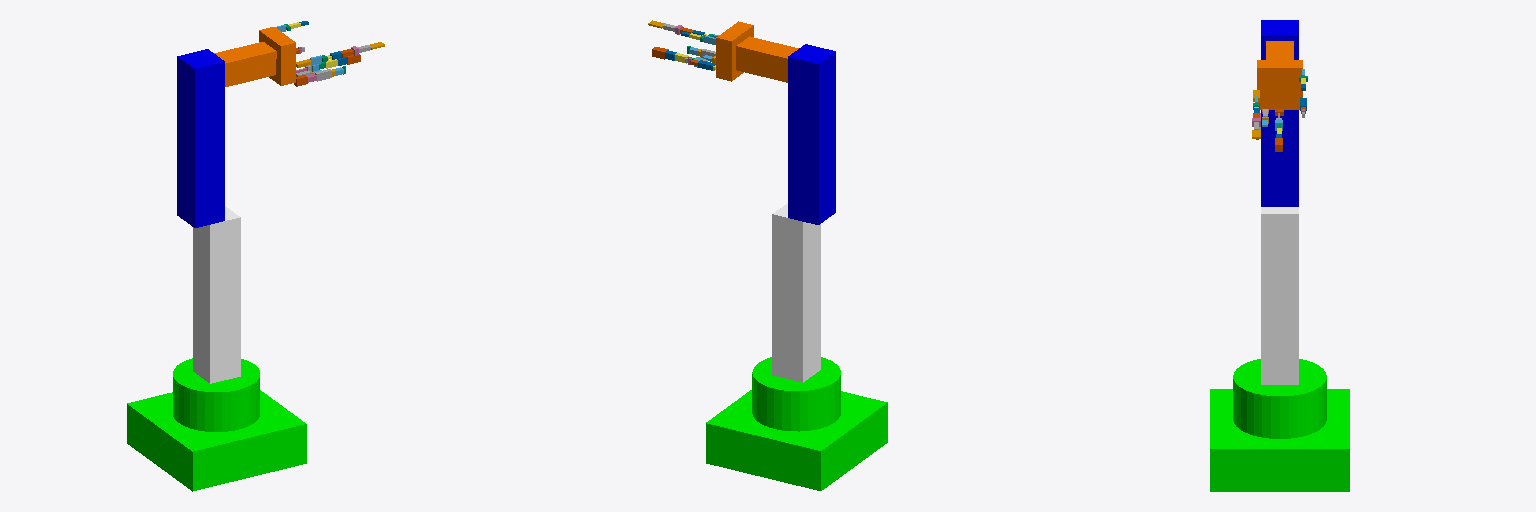
--- Render facts (derived) ---
Views: 3 orthographic renders of the robot side by side, from view 1: azimuth 30°, elevation 25°; view 2: azimuth 150°, elevation 25°; view 3: azimuth 270°, elevation 25°.
Robot: robot — 42 links, 41 joints (38 revolute, 1 continuous, 2 fixed); root link base_link; default pose: all joints at 0.
Links seen in each view (by area): view 1: base_link, arm_link, support_link, wrist_link, palm_link; view 2: base_link, arm_link, support_link, wrist_link, palm_link; view 3: base_link, support_link, arm_link, palm_link, wrist_link.
Boxes of the visible links, <box> form: base_link: <box>127,358,306,491</box>; arm_link: <box>177,49,224,227</box>; support_link: <box>193,206,240,383</box>; wrist_link: <box>214,42,276,86</box>; palm_link: <box>259,27,295,85</box>; base_link: <box>706,357,887,490</box>; arm_link: <box>788,44,835,224</box>; support_link: <box>772,203,820,382</box>; wrist_link: <box>736,36,798,82</box>; palm_link: <box>716,21,753,81</box>; base_link: <box>1210,359,1349,491</box>; support_link: <box>1261,207,1298,384</box>; arm_link: <box>1261,20,1298,206</box>; palm_link: <box>1257,60,1302,109</box>; wrist_link: <box>1266,41,1293,59</box>.
Size in the robot's own frame: 1.4 by 0.75 by 2.52 metres.
Geometry: primitives only (box / cylinder / sphere), no mesh files.

URDF robot description (robot):
<?xml version='1.0' encoding='utf-8'?>
<robot name="robot">
  <link name="base_link">
    <visual>
      <origin xyz="0 0 0.125" rpy="0 0 0" />
      <geometry>
        <box size="0.75 0.75 0.25" />
      </geometry>
      <material name="green" />
    </visual>
    <visual>
      <origin xyz="0 0 0.375" rpy="0 0 0" />
      <geometry>
        <cylinder length="0.25" radius="0.25" />
      </geometry>
      <material name="green">
        <color rgba="0 1 0 1" />
      </material>
    </visual>
    <collision>
      <geometry>
        <box size="0.75 0.75 0.5" />
      </geometry>
    </collision>
    <inertial>
      <mass value="0.5" />
      <inertia ixx="0.034" ixy="0.0" ixz="0.0" iyy="0.034" iyz="0.0" izz="0.034" />
    </inertial>
  </link>
  <link name="support_link">
    <visual>
      <origin xyz="0 0 0.5" rpy="0 0 0" />
      <geometry>
        <box size="0.2 0.2 1" />
      </geometry>
      <material name="white">
        <color rgba="1 1 1 1" />
      </material>
    </visual>
    <collision>
      <geometry>
        <box size="0.2 0.2 1" />
      </geometry>
    </collision>
    <inertial>
      <mass value="0.1" />
      <inertia ixx="0.01" ixy="0.0" ixz="0.0" iyy="0.01" iyz="0.0" izz="0.01" />
    </inertial>
  </link>
  <joint name="support_joint" type="continuous">
    <origin xyz="0 0 0.5" rpy="0 0 0" />
    <parent link="base_link" />
    <child link="support_link" />
    <axis xyz="0 0 1" />
  </joint>
  <link name="arm_link">
    <visual>
      <origin xyz="0 0 0.5" rpy="0 0 0" />
      <geometry>
        <box size="0.2 0.2 1" />
      </geometry>
      <material name="blue">
        <color rgba="0 0 1 1" />
      </material>
    </visual>
    <collision>
      <geometry>
        <box size="0.2 0.2 1" />
      </geometry>
    </collision>
    <inertial>
      <mass value="0.1" />
      <inertia ixx="0.01" ixy="0.0" ixz="0.0" iyy="0.01" iyz="0.0" izz="0.01" />
    </inertial>
  </link>
  <joint name="arm_joint" type="revolute">
    <origin xyz="-0.1 0 1" rpy="0 0 0" />
    <parent link="support_link" />
    <child link="arm_link" />
    <axis xyz="0 1 0" />
    <limit lower="-3.14" upper="3.14" effort="1.0" velocity="1.0" />
  </joint>
  <link name="wrist_link">
    <visual>
      <origin xyz="0 0 0.25" rpy="0 0 0" />
      <geometry>
        <box size="0.15 0.15 0.5" />
      </geometry>
      <material name="orange">
        <color rgba="1 0.5 0 1" />
      </material>
    </visual>
    <collision>
      <geometry>
        <box size="0.15 0.15 0.5" />
      </geometry>
    </collision>
    <inertial>
      <mass value="0.1" />
      <inertia ixx="0.01" ixy="0.0" ixz="0.0" iyy="0.01" iyz="0.0" izz="0.01" />
    </inertial>
  </link>
  <joint name="wrist_joint" type="fixed">
    <origin xyz="0 0 0.9" rpy="0 1.571 0" />
    <parent link="arm_link" />
    <child link="wrist_link" />
  </joint>
  <link name="palm_link">
    <visual>
      <origin xyz="0 0 0.05" rpy="0 0 0" />
      <geometry>
        <box size="0.25 0.25 0.1" />
      </geometry>
      <material name="orange" />
    </visual>
    <collision>
      <geometry>
        <box size="0.25 0.25 0.1" />
      </geometry>
    </collision>
    <inertial>
      <mass value="0.1" />
      <inertia ixx="0.01" ixy="0.0" ixz="0.0" iyy="0.01" iyz="0.0" izz="0.01" />
    </inertial>
  </link>
  <joint name="palm_joint" type="fixed">
    <origin xyz="0 0 0.45" rpy="0 0 0" />
    <parent link="wrist_link" />
    <child link="palm_link" />
  </joint>
  <link name="finger_link_0_0">
    <visual>
      <origin xyz="0 0 0.035" rpy="0 0 0" />
      <geometry>
        <box size="0.048 0.029 0.07" />
      </geometry>
    </visual>
    <collision>
      <geometry>
        <box size="0.048 0.029 0.07" />
      </geometry>
    </collision>
    <inertial>
      <mass value="0.029" />
      <inertia ixx="0.0" iyy="0.0" izz="0.0" ixy="0" ixz="0" iyz="0" />
    </inertial>
  </link>
  <joint name="finger_joint_palm_link_to_finger_link_0_0" type="revolute">
    <origin xyz="0.125 -0.119 0.1" rpy="0 0 0" />
    <parent link="palm_link" />
    <child link="finger_link_0_0" />
    <axis xyz="0.0 1.0 0.0" />
    <limit lower="-3.142" upper="3.142" effort="10" velocity="10" />
  </joint>
  <link name="finger_link_0_1">
    <visual>
      <origin xyz="0 0 0.0315" rpy="0 0 0" />
      <geometry>
        <box size="0.03 0.033 0.063" />
      </geometry>
    </visual>
    <collision>
      <geometry>
        <box size="0.03 0.033 0.063" />
      </geometry>
    </collision>
    <inertial>
      <mass value="0.019" />
      <inertia ixx="0.0" iyy="0.0" izz="0.0" ixy="0" ixz="0" iyz="0" />
    </inertial>
  </link>
  <joint name="finger_joint_finger_link_0_0_to_finger_link_0_1" type="revolute">
    <origin xyz="0.0 0.0 0.07" rpy="0 0 0" />
    <parent link="finger_link_0_0" />
    <child link="finger_link_0_1" />
    <axis xyz="0.0 1.0 0.0" />
    <limit lower="-3.142" upper="3.142" effort="10" velocity="10" />
  </joint>
  <link name="finger_link_0_2">
    <visual>
      <origin xyz="0 0 0.0495" rpy="0 0 0" />
      <geometry>
        <box size="0.047 0.025 0.099" />
      </geometry>
    </visual>
    <collision>
      <geometry>
        <box size="0.047 0.025 0.099" />
      </geometry>
    </collision>
    <inertial>
      <mass value="0.035" />
      <inertia ixx="0.0" iyy="0.0" izz="0.0" ixy="0" ixz="0" iyz="0" />
    </inertial>
  </link>
  <joint name="finger_joint_finger_link_0_1_to_finger_link_0_2" type="revolute">
    <origin xyz="0.0 0.0 0.063" rpy="0 0 0" />
    <parent link="finger_link_0_1" />
    <child link="finger_link_0_2" />
    <axis xyz="0.0 1.0 0.0" />
    <limit lower="-3.142" upper="3.142" effort="10" velocity="10" />
  </joint>
  <link name="finger_link_0_3">
    <visual>
      <origin xyz="0 0 0.0125" rpy="0 0 0" />
      <geometry>
        <box size="0.03 0.031 0.025" />
      </geometry>
    </visual>
    <collision>
      <geometry>
        <box size="0.03 0.031 0.025" />
      </geometry>
    </collision>
    <inertial>
      <mass value="0.007" />
      <inertia ixx="0.0" iyy="0.0" izz="0.0" ixy="0" ixz="0" iyz="0" />
    </inertial>
  </link>
  <joint name="finger_joint_finger_link_0_2_to_finger_link_0_3" type="revolute">
    <origin xyz="0.0 0.0 0.099" rpy="0 0 0" />
    <parent link="finger_link_0_2" />
    <child link="finger_link_0_3" />
    <axis xyz="0.0 1.0 0.0" />
    <limit lower="-3.142" upper="3.142" effort="10" velocity="10" />
  </joint>
  <link name="finger_link_0_4">
    <visual>
      <origin xyz="0 0 0.026" rpy="0 0 0" />
      <geometry>
        <box size="0.028 0.033 0.052" />
      </geometry>
    </visual>
    <collision>
      <geometry>
        <box size="0.028 0.033 0.052" />
      </geometry>
    </collision>
    <inertial>
      <mass value="0.014" />
      <inertia ixx="0.0" iyy="0.0" izz="0.0" ixy="0" ixz="0" iyz="0" />
    </inertial>
  </link>
  <joint name="finger_joint_finger_link_0_3_to_finger_link_0_4" type="revolute">
    <origin xyz="0.0 0.0 0.025" rpy="0 0 0" />
    <parent link="finger_link_0_3" />
    <child link="finger_link_0_4" />
    <axis xyz="1.0 0.0 0.0" />
    <limit lower="-3.142" upper="3.142" effort="10" velocity="10" />
  </joint>
  <link name="finger_link_0_5">
    <visual>
      <origin xyz="0 0 0.0105" rpy="0 0 0" />
      <geometry>
        <box size="0.045 0.013 0.021" />
      </geometry>
    </visual>
    <collision>
      <geometry>
        <box size="0.045 0.013 0.021" />
      </geometry>
    </collision>
    <inertial>
      <mass value="0.004" />
      <inertia ixx="0.0" iyy="0.0" izz="0.0" ixy="0" ixz="0" iyz="0" />
    </inertial>
  </link>
  <joint name="finger_joint_finger_link_0_4_to_finger_link_0_5" type="revolute">
    <origin xyz="0.0 0.0 0.052" rpy="0 0 0" />
    <parent link="finger_link_0_4" />
    <child link="finger_link_0_5" />
    <axis xyz="1.0 0.0 0.0" />
    <limit lower="-3.142" upper="3.142" effort="10" velocity="10" />
  </joint>
  <link name="finger_link_1_0">
    <visual>
      <origin xyz="0 0 0.0055" rpy="0 0 0" />
      <geometry>
        <box size="0.023 0.041 0.011" />
      </geometry>
    </visual>
    <collision>
      <geometry>
        <box size="0.023 0.041 0.011" />
      </geometry>
    </collision>
    <inertial>
      <mass value="0.003" />
      <inertia ixx="0.0" iyy="0.0" izz="0.0" ixy="0" ixz="0" iyz="0" />
    </inertial>
  </link>
  <joint name="finger_joint_palm_link_to_finger_link_1_0" type="revolute">
    <origin xyz="0.063 0.125 0.1" rpy="0 0 0" />
    <parent link="palm_link" />
    <child link="finger_link_1_0" />
    <axis xyz="-1.0 0.0 0.0" />
    <limit lower="-3.142" upper="3.142" effort="10" velocity="10" />
  </joint>
  <link name="finger_link_1_1">
    <visual>
      <origin xyz="0 0 0.0495" rpy="0 0 0" />
      <geometry>
        <box size="0.031 0.035 0.099" />
      </geometry>
    </visual>
    <collision>
      <geometry>
        <box size="0.031 0.035 0.099" />
      </geometry>
    </collision>
    <inertial>
      <mass value="0.032" />
      <inertia ixx="0.0" iyy="0.0" izz="0.0" ixy="0" ixz="0" iyz="0" />
    </inertial>
  </link>
  <joint name="finger_joint_finger_link_1_0_to_finger_link_1_1" type="revolute">
    <origin xyz="0.0 0.0 0.011" rpy="0 0 0" />
    <parent link="finger_link_1_0" />
    <child link="finger_link_1_1" />
    <axis xyz="1.0 1.0 0.0" />
    <limit lower="-3.142" upper="3.142" effort="10" velocity="10" />
  </joint>
  <link name="finger_link_1_2">
    <visual>
      <origin xyz="0 0 0.025" rpy="0 0 0" />
      <geometry>
        <box size="0.019 0.03 0.05" />
      </geometry>
    </visual>
    <collision>
      <geometry>
        <box size="0.019 0.03 0.05" />
      </geometry>
    </collision>
    <inertial>
      <mass value="0.009" />
      <inertia ixx="0.0" iyy="0.0" izz="0.0" ixy="0" ixz="0" iyz="0" />
    </inertial>
  </link>
  <joint name="finger_joint_finger_link_1_1_to_finger_link_1_2" type="revolute">
    <origin xyz="0.0 0.0 0.099" rpy="0 0 0" />
    <parent link="finger_link_1_1" />
    <child link="finger_link_1_2" />
    <axis xyz="0.0 1.0 0.0" />
    <limit lower="-3.142" upper="3.142" effort="10" velocity="10" />
  </joint>
  <link name="finger_link_1_3">
    <visual>
      <origin xyz="0 0 0.0095" rpy="0 0 0" />
      <geometry>
        <box size="0.039 0.011 0.019" />
      </geometry>
    </visual>
    <collision>
      <geometry>
        <box size="0.039 0.011 0.019" />
      </geometry>
    </collision>
    <inertial>
      <mass value="0.002" />
      <inertia ixx="0.0" iyy="0.0" izz="0.0" ixy="0" ixz="0" iyz="0" />
    </inertial>
  </link>
  <joint name="finger_joint_finger_link_1_2_to_finger_link_1_3" type="revolute">
    <origin xyz="0.0 0.0 0.05" rpy="0 0 0" />
    <parent link="finger_link_1_2" />
    <child link="finger_link_1_3" />
    <axis xyz="1.0 0.0 0.0" />
    <limit lower="-3.142" upper="3.142" effort="10" velocity="10" />
  </joint>
  <link name="finger_link_1_4">
    <visual>
      <origin xyz="0 0 0.0115" rpy="0 0 0" />
      <geometry>
        <box size="0.026 0.011 0.023" />
      </geometry>
    </visual>
    <collision>
      <geometry>
        <box size="0.026 0.011 0.023" />
      </geometry>
    </collision>
    <inertial>
      <mass value="0.002" />
      <inertia ixx="0.0" iyy="0.0" izz="0.0" ixy="0" ixz="0" iyz="0" />
    </inertial>
  </link>
  <joint name="finger_joint_finger_link_1_3_to_finger_link_1_4" type="revolute">
    <origin xyz="0.0 0.0 0.019" rpy="0 0 0" />
    <parent link="finger_link_1_3" />
    <child link="finger_link_1_4" />
    <axis xyz="1.0 0.0 0.0" />
    <limit lower="-3.142" upper="3.142" effort="10" velocity="10" />
  </joint>
  <link name="finger_link_2_0">
    <visual>
      <origin xyz="0 0 0.0475" rpy="0 0 0" />
      <geometry>
        <box size="0.022 0.034 0.095" />
      </geometry>
    </visual>
    <collision>
      <geometry>
        <box size="0.022 0.034 0.095" />
      </geometry>
    </collision>
    <inertial>
      <mass value="0.021" />
      <inertia ixx="0.0" iyy="0.0" izz="0.0" ixy="0" ixz="0" iyz="0" />
    </inertial>
  </link>
  <joint name="finger_joint_palm_link_to_finger_link_2_0" type="revolute">
    <origin xyz="0.018 -0.125 0.1" rpy="0 0 0" />
    <parent link="palm_link" />
    <child link="finger_link_2_0" />
    <axis xyz="1.0 0.0 0.0" />
    <limit lower="-3.142" upper="3.142" effort="10" velocity="10" />
  </joint>
  <link name="finger_link_2_1">
    <visual>
      <origin xyz="0 0 0.035" rpy="0 0 0" />
      <geometry>
        <box size="0.044 0.016 0.07" />
      </geometry>
    </visual>
    <collision>
      <geometry>
        <box size="0.044 0.016 0.07" />
      </geometry>
    </collision>
    <inertial>
      <mass value="0.015" />
      <inertia ixx="0.0" iyy="0.0" izz="0.0" ixy="0" ixz="0" iyz="0" />
    </inertial>
  </link>
  <joint name="finger_joint_finger_link_2_0_to_finger_link_2_1" type="revolute">
    <origin xyz="0.0 0.0 0.095" rpy="0 0 0" />
    <parent link="finger_link_2_0" />
    <child link="finger_link_2_1" />
    <axis xyz="0.0 1.0 0.0" />
    <limit lower="-3.142" upper="3.142" effort="10" velocity="10" />
  </joint>
  <link name="finger_link_2_2">
    <visual>
      <origin xyz="0 0 0.016" rpy="0 0 0" />
      <geometry>
        <box size="0.024 0.04 0.032" />
      </geometry>
    </visual>
    <collision>
      <geometry>
        <box size="0.024 0.04 0.032" />
      </geometry>
    </collision>
    <inertial>
      <mass value="0.009" />
      <inertia ixx="0.0" iyy="0.0" izz="0.0" ixy="0" ixz="0" iyz="0" />
    </inertial>
  </link>
  <joint name="finger_joint_finger_link_2_1_to_finger_link_2_2" type="revolute">
    <origin xyz="0.0 0.0 0.07" rpy="0 0 0" />
    <parent link="finger_link_2_1" />
    <child link="finger_link_2_2" />
    <axis xyz="1.0 1.0 0.0" />
    <limit lower="-3.142" upper="3.142" effort="10" velocity="10" />
  </joint>
  <link name="finger_link_2_3">
    <visual>
      <origin xyz="0 0 0.0165" rpy="0 0 0" />
      <geometry>
        <box size="0.011 0.03 0.033" />
      </geometry>
    </visual>
    <collision>
      <geometry>
        <box size="0.011 0.03 0.033" />
      </geometry>
    </collision>
    <inertial>
      <mass value="0.003" />
      <inertia ixx="0.0" iyy="0.0" izz="0.0" ixy="0" ixz="0" iyz="0" />
    </inertial>
  </link>
  <joint name="finger_joint_finger_link_2_2_to_finger_link_2_3" type="revolute">
    <origin xyz="0.0 0.0 0.032" rpy="0 0 0" />
    <parent link="finger_link_2_2" />
    <child link="finger_link_2_3" />
    <axis xyz="0.0 1.0 0.0" />
    <limit lower="-3.142" upper="3.142" effort="10" velocity="10" />
  </joint>
  <link name="finger_link_2_4">
    <visual>
      <origin xyz="0 0 0.0325" rpy="0 0 0" />
      <geometry>
        <box size="0.028 0.032 0.065" />
      </geometry>
    </visual>
    <collision>
      <geometry>
        <box size="0.028 0.032 0.065" />
      </geometry>
    </collision>
    <inertial>
      <mass value="0.017" />
      <inertia ixx="0.0" iyy="0.0" izz="0.0" ixy="0" ixz="0" iyz="0" />
    </inertial>
  </link>
  <joint name="finger_joint_finger_link_2_3_to_finger_link_2_4" type="revolute">
    <origin xyz="0.0 0.0 0.033" rpy="0 0 0" />
    <parent link="finger_link_2_3" />
    <child link="finger_link_2_4" />
    <axis xyz="0.0 1.0 0.0" />
    <limit lower="-3.142" upper="3.142" effort="10" velocity="10" />
  </joint>
  <link name="finger_link_2_5">
    <visual>
      <origin xyz="0 0 0.038" rpy="0 0 0" />
      <geometry>
        <box size="0.025 0.037 0.076" />
      </geometry>
    </visual>
    <collision>
      <geometry>
        <box size="0.025 0.037 0.076" />
      </geometry>
    </collision>
    <inertial>
      <mass value="0.021" />
      <inertia ixx="0.0" iyy="0.0" izz="0.0" ixy="0" ixz="0" iyz="0" />
    </inertial>
  </link>
  <joint name="finger_joint_finger_link_2_4_to_finger_link_2_5" type="revolute">
    <origin xyz="0.0 0.0 0.065" rpy="0 0 0" />
    <parent link="finger_link_2_4" />
    <child link="finger_link_2_5" />
    <axis xyz="1.0 0.0 0.0" />
    <limit lower="-3.142" upper="3.142" effort="10" velocity="10" />
  </joint>
  <link name="finger_link_2_6">
    <visual>
      <origin xyz="0 0 0.0155" rpy="0 0 0" />
      <geometry>
        <box size="0.039 0.044 0.031" />
      </geometry>
    </visual>
    <collision>
      <geometry>
        <box size="0.039 0.044 0.031" />
      </geometry>
    </collision>
    <inertial>
      <mass value="0.016" />
      <inertia ixx="0.0" iyy="0.0" izz="0.0" ixy="0" ixz="0" iyz="0" />
    </inertial>
  </link>
  <joint name="finger_joint_finger_link_2_5_to_finger_link_2_6" type="revolute">
    <origin xyz="0.0 0.0 0.076" rpy="0 0 0" />
    <parent link="finger_link_2_5" />
    <child link="finger_link_2_6" />
    <axis xyz="1.0 0.0 0.0" />
    <limit lower="-3.142" upper="3.142" effort="10" velocity="10" />
  </joint>
  <link name="finger_link_2_7">
    <visual>
      <origin xyz="0 0 0.041" rpy="0 0 0" />
      <geometry>
        <box size="0.023 0.031 0.082" />
      </geometry>
    </visual>
    <collision>
      <geometry>
        <box size="0.023 0.031 0.082" />
      </geometry>
    </collision>
    <inertial>
      <mass value="0.018" />
      <inertia ixx="0.0" iyy="0.0" izz="0.0" ixy="0" ixz="0" iyz="0" />
    </inertial>
  </link>
  <joint name="finger_joint_finger_link_2_6_to_finger_link_2_7" type="revolute">
    <origin xyz="0.0 0.0 0.031" rpy="0 0 0" />
    <parent link="finger_link_2_6" />
    <child link="finger_link_2_7" />
    <axis xyz="0.0 1.0 0.0" />
    <limit lower="-3.142" upper="3.142" effort="10" velocity="10" />
  </joint>
  <link name="finger_link_2_8">
    <visual>
      <origin xyz="0 0 0.0445" rpy="0 0 0" />
      <geometry>
        <box size="0.011 0.047 0.089" />
      </geometry>
    </visual>
    <collision>
      <geometry>
        <box size="0.011 0.047 0.089" />
      </geometry>
    </collision>
    <inertial>
      <mass value="0.014" />
      <inertia ixx="0.0" iyy="0.0" izz="0.0" ixy="0" ixz="0" iyz="0" />
    </inertial>
  </link>
  <joint name="finger_joint_finger_link_2_7_to_finger_link_2_8" type="revolute">
    <origin xyz="0.0 0.0 0.082" rpy="0 0 0" />
    <parent link="finger_link_2_7" />
    <child link="finger_link_2_8" />
    <axis xyz="0.0 1.0 0.0" />
    <limit lower="-3.142" upper="3.142" effort="10" velocity="10" />
  </joint>
  <link name="finger_link_3_0">
    <visual>
      <origin xyz="0 0 0.0375" rpy="0 0 0" />
      <geometry>
        <box size="0.038 0.014 0.075" />
      </geometry>
    </visual>
    <collision>
      <geometry>
        <box size="0.038 0.014 0.075" />
      </geometry>
    </collision>
    <inertial>
      <mass value="0.012" />
      <inertia ixx="0.0" iyy="0.0" izz="0.0" ixy="0" ixz="0" iyz="0" />
    </inertial>
  </link>
  <joint name="finger_joint_palm_link_to_finger_link_3_0" type="revolute">
    <origin xyz="-0.099 0.125 0.1" rpy="0 0 0" />
    <parent link="palm_link" />
    <child link="finger_link_3_0" />
    <axis xyz="-1.0 0.0 0.0" />
    <limit lower="-3.142" upper="3.142" effort="10" velocity="10" />
  </joint>
  <link name="finger_link_3_1">
    <visual>
      <origin xyz="0 0 0.0105" rpy="0 0 0" />
      <geometry>
        <box size="0.023 0.046 0.021" />
      </geometry>
    </visual>
    <collision>
      <geometry>
        <box size="0.023 0.046 0.021" />
      </geometry>
    </collision>
    <inertial>
      <mass value="0.007" />
      <inertia ixx="0.0" iyy="0.0" izz="0.0" ixy="0" ixz="0" iyz="0" />
    </inertial>
  </link>
  <joint name="finger_joint_finger_link_3_0_to_finger_link_3_1" type="revolute">
    <origin xyz="0.0 0.0 0.075" rpy="0 0 0" />
    <parent link="finger_link_3_0" />
    <child link="finger_link_3_1" />
    <axis xyz="1.0 0.0 0.0" />
    <limit lower="-3.142" upper="3.142" effort="10" velocity="10" />
  </joint>
  <link name="finger_link_3_2">
    <visual>
      <origin xyz="0 0 0.036" rpy="0 0 0" />
      <geometry>
        <box size="0.021 0.023 0.072" />
      </geometry>
    </visual>
    <collision>
      <geometry>
        <box size="0.021 0.023 0.072" />
      </geometry>
    </collision>
    <inertial>
      <mass value="0.01" />
      <inertia ixx="0.0" iyy="0.0" izz="0.0" ixy="0" ixz="0" iyz="0" />
    </inertial>
  </link>
  <joint name="finger_joint_finger_link_3_1_to_finger_link_3_2" type="revolute">
    <origin xyz="0.0 0.0 0.021" rpy="0 0 0" />
    <parent link="finger_link_3_1" />
    <child link="finger_link_3_2" />
    <axis xyz="1.0 0.0 0.0" />
    <limit lower="-3.142" upper="3.142" effort="10" velocity="10" />
  </joint>
  <link name="finger_link_3_3">
    <visual>
      <origin xyz="0 0 0.026" rpy="0 0 0" />
      <geometry>
        <box size="0.015 0.027 0.052" />
      </geometry>
    </visual>
    <collision>
      <geometry>
        <box size="0.015 0.027 0.052" />
      </geometry>
    </collision>
    <inertial>
      <mass value="0.006" />
      <inertia ixx="0.0" iyy="0.0" izz="0.0" ixy="0" ixz="0" iyz="0" />
    </inertial>
  </link>
  <joint name="finger_joint_finger_link_3_2_to_finger_link_3_3" type="revolute">
    <origin xyz="0.0 0.0 0.072" rpy="0 0 0" />
    <parent link="finger_link_3_2" />
    <child link="finger_link_3_3" />
    <axis xyz="0.0 1.0 0.0" />
    <limit lower="-3.142" upper="3.142" effort="10" velocity="10" />
  </joint>
  <link name="finger_link_4_0">
    <visual>
      <origin xyz="0 0 0.024" rpy="0 0 0" />
      <geometry>
        <box size="0.02 0.046 0.048" />
      </geometry>
    </visual>
    <collision>
      <geometry>
        <box size="0.02 0.046 0.048" />
      </geometry>
    </collision>
    <inertial>
      <mass value="0.013" />
      <inertia ixx="0.0" iyy="0.0" izz="0.0" ixy="0" ixz="0" iyz="0" />
    </inertial>
  </link>
  <joint name="finger_joint_palm_link_to_finger_link_4_0" type="revolute">
    <origin xyz="0.125 -0.004 0.1" rpy="0 0 0" />
    <parent link="palm_link" />
    <child link="finger_link_4_0" />
    <axis xyz="0.0 1.0 0.0" />
    <limit lower="-3.142" upper="3.142" effort="10" velocity="10" />
  </joint>
  <link name="finger_link_4_1">
    <visual>
      <origin xyz="0 0 0.0445" rpy="0 0 0" />
      <geometry>
        <box size="0.018 0.012 0.089" />
      </geometry>
    </visual>
    <collision>
      <geometry>
        <box size="0.018 0.012 0.089" />
      </geometry>
    </collision>
    <inertial>
      <mass value="0.006" />
      <inertia ixx="0.0" iyy="0.0" izz="0.0" ixy="0" ixz="0" iyz="0" />
    </inertial>
  </link>
  <joint name="finger_joint_finger_link_4_0_to_finger_link_4_1" type="revolute">
    <origin xyz="0.0 0.0 0.048" rpy="0 0 0" />
    <parent link="finger_link_4_0" />
    <child link="finger_link_4_1" />
    <axis xyz="0.0 1.0 0.0" />
    <limit lower="-3.142" upper="3.142" effort="10" velocity="10" />
  </joint>
  <link name="finger_link_4_2">
    <visual>
      <origin xyz="0 0 0.011" rpy="0 0 0" />
      <geometry>
        <box size="0.04 0.033 0.022" />
      </geometry>
    </visual>
    <collision>
      <geometry>
        <box size="0.04 0.033 0.022" />
      </geometry>
    </collision>
    <inertial>
      <mass value="0.009" />
      <inertia ixx="0.0" iyy="0.0" izz="0.0" ixy="0" ixz="0" iyz="0" />
    </inertial>
  </link>
  <joint name="finger_joint_finger_link_4_1_to_finger_link_4_2" type="revolute">
    <origin xyz="0.0 0.0 0.089" rpy="0 0 0" />
    <parent link="finger_link_4_1" />
    <child link="finger_link_4_2" />
    <axis xyz="1.0 0.0 0.0" />
    <limit lower="-3.142" upper="3.142" effort="10" velocity="10" />
  </joint>
  <link name="finger_link_4_3">
    <visual>
      <origin xyz="0 0 0.0055" rpy="0 0 0" />
      <geometry>
        <box size="0.044 0.014 0.011" />
      </geometry>
    </visual>
    <collision>
      <geometry>
        <box size="0.044 0.014 0.011" />
      </geometry>
    </collision>
    <inertial>
      <mass value="0.002" />
      <inertia ixx="0.0" iyy="0.0" izz="0.0" ixy="0" ixz="0" iyz="0" />
    </inertial>
  </link>
  <joint name="finger_joint_finger_link_4_2_to_finger_link_4_3" type="revolute">
    <origin xyz="0.0 0.0 0.022" rpy="0 0 0" />
    <parent link="finger_link_4_2" />
    <child link="finger_link_4_3" />
    <axis xyz="1.0 0.0 0.0" />
    <limit lower="-3.142" upper="3.142" effort="10" velocity="10" />
  </joint>
  <link name="finger_link_4_4">
    <visual>
      <origin xyz="0 0 0.0195" rpy="0 0 0" />
      <geometry>
        <box size="0.045 0.045 0.039" />
      </geometry>
    </visual>
    <collision>
      <geometry>
        <box size="0.045 0.045 0.039" />
      </geometry>
    </collision>
    <inertial>
      <mass value="0.024" />
      <inertia ixx="0.0" iyy="0.0" izz="0.0" ixy="0" ixz="0" iyz="0" />
    </inertial>
  </link>
  <joint name="finger_joint_finger_link_4_3_to_finger_link_4_4" type="revolute">
    <origin xyz="0.0 0.0 0.011" rpy="0 0 0" />
    <parent link="finger_link_4_3" />
    <child link="finger_link_4_4" />
    <axis xyz="0.0 1.0 0.0" />
    <limit lower="-3.142" upper="3.142" effort="10" velocity="10" />
  </joint>
  <link name="finger_link_4_5">
    <visual>
      <origin xyz="0 0 0.026" rpy="0 0 0" />
      <geometry>
        <box size="0.03 0.021 0.052" />
      </geometry>
    </visual>
    <collision>
      <geometry>
        <box size="0.03 0.021 0.052" />
      </geometry>
    </collision>
    <inertial>
      <mass value="0.01" />
      <inertia ixx="0.0" iyy="0.0" izz="0.0" ixy="0" ixz="0" iyz="0" />
    </inertial>
  </link>
  <joint name="finger_joint_finger_link_4_4_to_finger_link_4_5" type="revolute">
    <origin xyz="0.0 0.0 0.039" rpy="0 0 0" />
    <parent link="finger_link_4_4" />
    <child link="finger_link_4_5" />
    <axis xyz="0.0 1.0 0.0" />
    <limit lower="-3.142" upper="3.142" effort="10" velocity="10" />
  </joint>
  <link name="finger_link_4_6">
    <visual>
      <origin xyz="0 0 0.038" rpy="0 0 0" />
      <geometry>
        <box size="0.038 0.027 0.076" />
      </geometry>
    </visual>
    <collision>
      <geometry>
        <box size="0.038 0.027 0.076" />
      </geometry>
    </collision>
    <inertial>
      <mass value="0.023" />
      <inertia ixx="0.0" iyy="0.0" izz="0.0" ixy="0" ixz="0" iyz="0" />
    </inertial>
  </link>
  <joint name="finger_joint_finger_link_4_5_to_finger_link_4_6" type="revolute">
    <origin xyz="0.0 0.0 0.052" rpy="0 0 0" />
    <parent link="finger_link_4_5" />
    <child link="finger_link_4_6" />
    <axis xyz="0.0 1.0 0.0" />
    <limit lower="-3.142" upper="3.142" effort="10" velocity="10" />
  </joint>
  <link name="finger_link_4_7">
    <visual>
      <origin xyz="0 0 0.0305" rpy="0 0 0" />
      <geometry>
        <box size="0.039 0.033 0.061" />
      </geometry>
    </visual>
    <collision>
      <geometry>
        <box size="0.039 0.033 0.061" />
      </geometry>
    </collision>
    <inertial>
      <mass value="0.024" />
      <inertia ixx="0.0" iyy="0.0" izz="0.0" ixy="0" ixz="0" iyz="0" />
    </inertial>
  </link>
  <joint name="finger_joint_finger_link_4_6_to_finger_link_4_7" type="revolute">
    <origin xyz="0.0 0.0 0.076" rpy="0 0 0" />
    <parent link="finger_link_4_6" />
    <child link="finger_link_4_7" />
    <axis xyz="0.0 1.0 0.0" />
    <limit lower="-3.142" upper="3.142" effort="10" velocity="10" />
  </joint>
  <link name="finger_link_4_8">
    <visual>
      <origin xyz="0 0 0.041" rpy="0 0 0" />
      <geometry>
        <box size="0.045 0.045 0.082" />
      </geometry>
    </visual>
    <collision>
      <geometry>
        <box size="0.045 0.045 0.082" />
      </geometry>
    </collision>
    <inertial>
      <mass value="0.05" />
      <inertia ixx="0.0" iyy="0.0" izz="0.0" ixy="0" ixz="0" iyz="0" />
    </inertial>
  </link>
  <joint name="finger_joint_finger_link_4_7_to_finger_link_4_8" type="revolute">
    <origin xyz="0.0 0.0 0.061" rpy="0 0 0" />
    <parent link="finger_link_4_7" />
    <child link="finger_link_4_8" />
    <axis xyz="0.0 1.0 0.0" />
    <limit lower="-3.142" upper="3.142" effort="10" velocity="10" />
  </joint>
  <link name="finger_link_5_0">
    <visual>
      <origin xyz="0 0 0.017" rpy="0 0 0" />
      <geometry>
        <box size="0.014 0.039 0.034" />
      </geometry>
    </visual>
    <collision>
      <geometry>
        <box size="0.014 0.039 0.034" />
      </geometry>
    </collision>
    <inertial>
      <mass value="0.006" />
      <inertia ixx="0.0" iyy="0.0" izz="0.0" ixy="0" ixz="0" iyz="0" />
    </inertial>
  </link>
  <joint name="finger_joint_palm_link_to_finger_link_5_0" type="revolute">
    <origin xyz="0.125 -0.078 0.1" rpy="0 0 0" />
    <parent link="palm_link" />
    <child link="finger_link_5_0" />
    <axis xyz="0.0 1.0 0.0" />
    <limit lower="-3.142" upper="3.142" effort="10" velocity="10" />
  </joint>
  <link name="finger_link_5_1">
    <visual>
      <origin xyz="0 0 0.0415" rpy="0 0 0" />
      <geometry>
        <box size="0.047 0.028 0.083" />
      </geometry>
    </visual>
    <collision>
      <geometry>
        <box size="0.047 0.028 0.083" />
      </geometry>
    </collision>
    <inertial>
      <mass value="0.033" />
      <inertia ixx="0.0" iyy="0.0" izz="0.0" ixy="0" ixz="0" iyz="0" />
    </inertial>
  </link>
  <joint name="finger_joint_finger_link_5_0_to_finger_link_5_1" type="revolute">
    <origin xyz="0.0 0.0 0.034" rpy="0 0 0" />
    <parent link="finger_link_5_0" />
    <child link="finger_link_5_1" />
    <axis xyz="0.0 1.0 0.0" />
    <limit lower="-3.142" upper="3.142" effort="10" velocity="10" />
  </joint>
  <link name="finger_link_5_2">
    <visual>
      <origin xyz="0 0 0.008" rpy="0 0 0" />
      <geometry>
        <box size="0.035 0.035 0.016" />
      </geometry>
    </visual>
    <collision>
      <geometry>
        <box size="0.035 0.035 0.016" />
      </geometry>
    </collision>
    <inertial>
      <mass value="0.006" />
      <inertia ixx="0.0" iyy="0.0" izz="0.0" ixy="0" ixz="0" iyz="0" />
    </inertial>
  </link>
  <joint name="finger_joint_finger_link_5_1_to_finger_link_5_2" type="revolute">
    <origin xyz="0.0 0.0 0.083" rpy="0 0 0" />
    <parent link="finger_link_5_1" />
    <child link="finger_link_5_2" />
    <axis xyz="0.0 1.0 0.0" />
    <limit lower="-3.142" upper="3.142" effort="10" velocity="10" />
  </joint>
  <link name="finger_link_5_3">
    <visual>
      <origin xyz="0 0 0.0325" rpy="0 0 0" />
      <geometry>
        <box size="0.015 0.033 0.065" />
      </geometry>
    </visual>
    <collision>
      <geometry>
        <box size="0.015 0.033 0.065" />
      </geometry>
    </collision>
    <inertial>
      <mass value="0.01" />
      <inertia ixx="0.0" iyy="0.0" izz="0.0" ixy="0" ixz="0" iyz="0" />
    </inertial>
  </link>
  <joint name="finger_joint_finger_link_5_2_to_finger_link_5_3" type="revolute">
    <origin xyz="0.0 0.0 0.016" rpy="0 0 0" />
    <parent link="finger_link_5_2" />
    <child link="finger_link_5_3" />
    <axis xyz="0.0 1.0 0.0" />
    <limit lower="-3.142" upper="3.142" effort="10" velocity="10" />
  </joint>
</robot>
